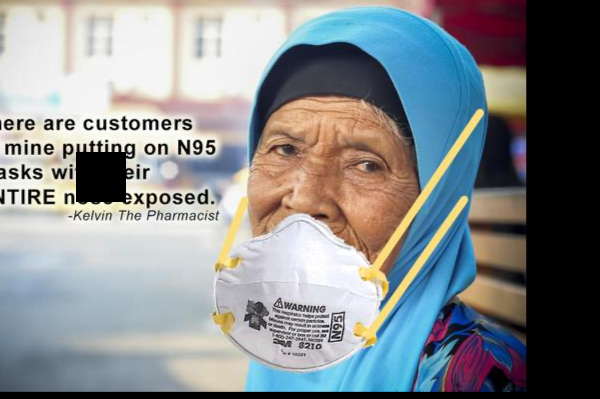mask_weared_incorrect: (245, 120, 412, 299)
